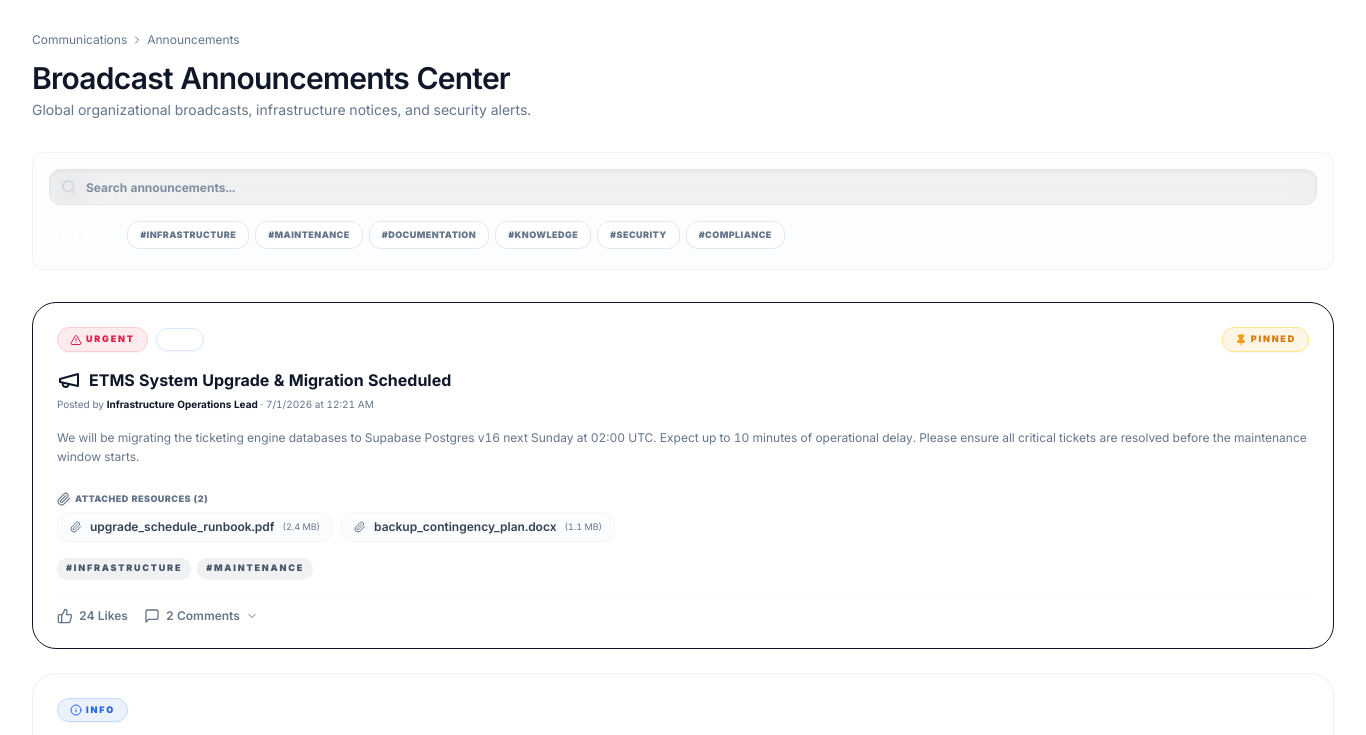
Scenario: Announcements Broadcasting Center Page › reveals comments drawer on click
What coordinates should you click on to do the following:
click the button "2 Comments"
I would click on:
 (201, 616)
Its box is [144,608,258,624].
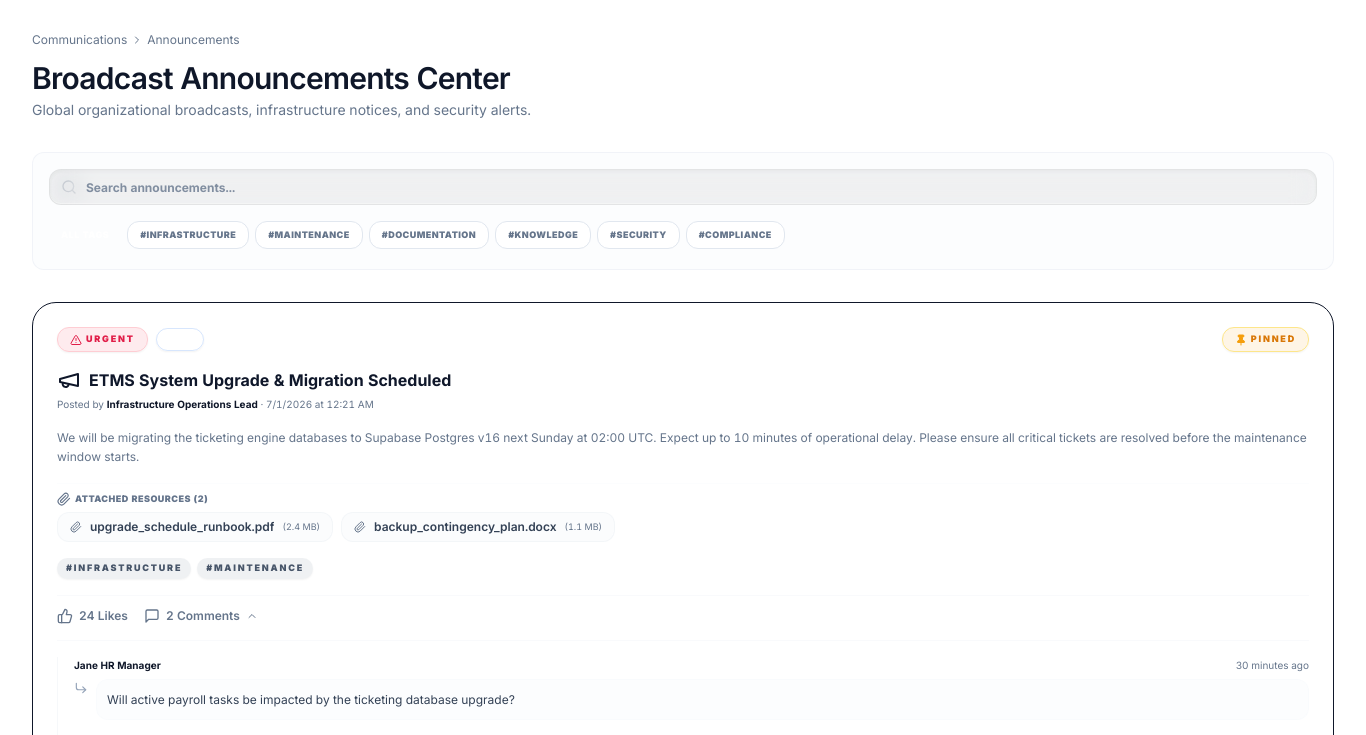
Expected: the text "Will active payroll tasks be impacted by the ticketing database upgrade?" is shown, [96,679,1309,720]
